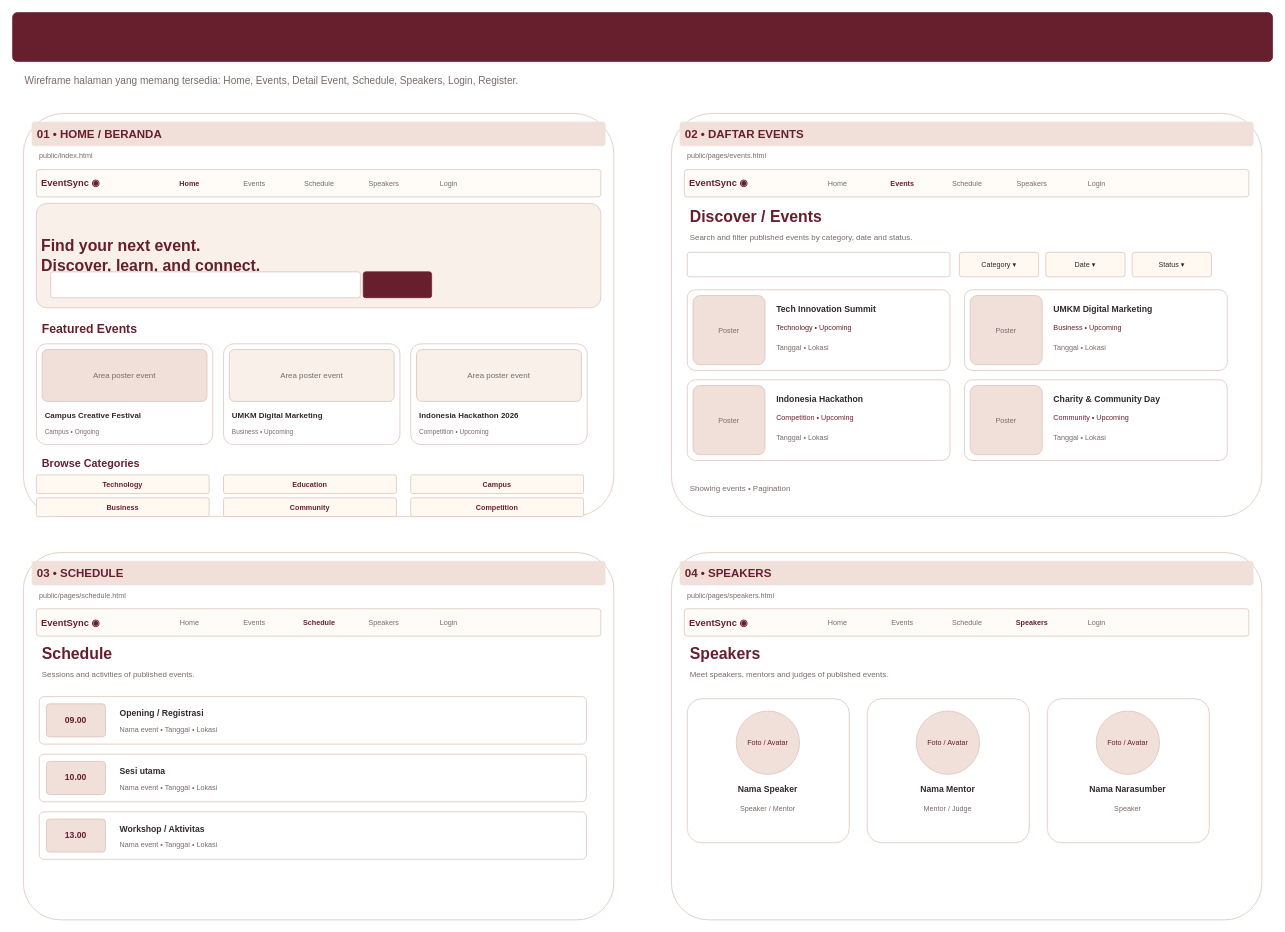
This 1285x932 diagram has some shape labels left out. The shapes that lost their labels are listed below. From the top down, each one's centre as x and y in pixels, then its label:
At [642,37]: "EVENTSYNC — SKETSA HALAMAN PUBLIK".
At [205,284]: "Search events, locations, categories…".
At [397,284]: "Search".
At [818,264]: "Title, location, organizer…".
